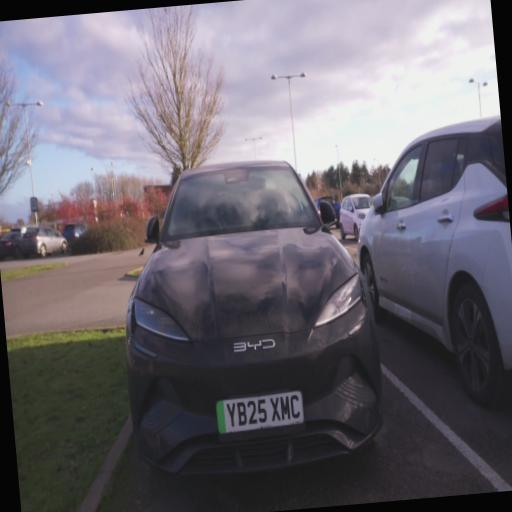numberplates: (216, 390, 304, 434)
